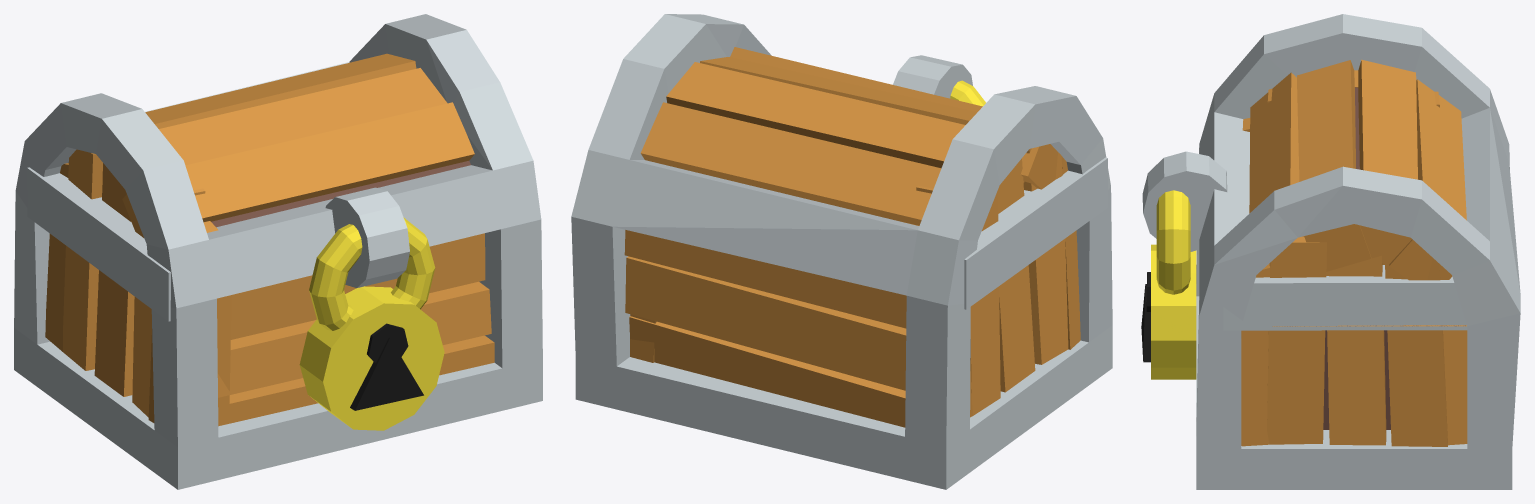
File: arca.fbx
The picture shows the model from 3 angles, left to right: view 1: azimuth 30°, elevation 25°; view 2: azimuth 150°, elevation 25°; view 3: azimuth 270°, elevation 25°; orthographic projection. The views are drawn at different scales.
Visible parts, largest first — view 1: mesh_499985679, mesh_310615892, mesh_1052151225, mesh_1423316105, mesh_1317139868, mesh_1180696515, mesh_1203509567, mesh_6712564, mesh_1760450947, mesh_1261123680, mesh_1099241048, mesh_1043152443 (+6 smaller); view 2: mesh_499985679, mesh_1388036914, mesh_444722293, mesh_1760450947, mesh_362589451, mesh_1317139868, mesh_226312246, mesh_1043152443, mesh_2018329878, mesh_1423316105, mesh_310615892, mesh_1099241048 (+2 smaller); view 3: mesh_499985679, mesh_780666706, mesh_983706439, mesh_1423316105, mesh_802177887, mesh_998265266, mesh_1760450947, mesh_1388036914, mesh_310615892, mesh_1052151225, mesh_1261123680, mesh_6712564 (+3 smaller).
Part boxes in pixels (<box>): mesh_499985679: <box>14,14,542,489</box>; mesh_310615892: <box>122,102,474,237</box>; mesh_1052151225: <box>299,286,444,430</box>; mesh_1423316105: <box>159,68,447,165</box>; mesh_1317139868: <box>27,167,170,321</box>; mesh_1180696515: <box>217,281,491,397</box>; mesh_1203509567: <box>230,233,485,339</box>; mesh_6712564: <box>309,217,435,330</box>; mesh_1760450947: <box>102,53,416,176</box>; mesh_1261123680: <box>325,187,409,288</box>; mesh_1099241048: <box>63,149,102,370</box>; mesh_1043152443: <box>94,163,134,396</box>; mesh_499985679: <box>571,14,1112,489</box>; mesh_1388036914: <box>640,102,941,225</box>; mesh_444722293: <box>625,256,906,390</box>; mesh_1760450947: <box>666,62,965,168</box>; mesh_362589451: <box>629,316,905,427</box>; mesh_1317139868: <box>964,157,1107,309</box>; mesh_226312246: <box>624,230,906,328</box>; mesh_1043152443: <box>998,158,1035,392</box>; mesh_2018329878: <box>1023,148,1068,364</box>; mesh_1423316105: <box>700,57,1024,182</box>; mesh_310615892: <box>730,47,1064,189</box>; mesh_1099241048: <box>916,186,1000,415</box>; mesh_499985679: <box>1196,14,1520,489</box>; mesh_780666706: <box>1223,265,1467,330</box>; mesh_983706439: <box>1267,236,1326,444</box>; mesh_1423316105: <box>1297,60,1371,271</box>; mesh_802177887: <box>1383,231,1447,446</box>; mesh_998265266: <box>1326,255,1386,445</box>; mesh_1760450947: <box>1358,59,1417,263</box>; mesh_1388036914: <box>1389,79,1466,280</box>; mesh_310615892: <box>1249,72,1303,236</box>; mesh_1052151225: <box>1151,244,1196,379</box>; mesh_1261123680: <box>1142,151,1227,251</box>; mesh_6712564: <box>1156,190,1190,294</box>.
Size of the model in its own units: 148 by 121 by 136.
